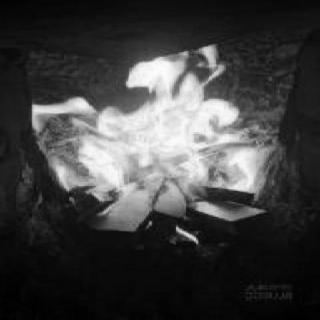Fire: (29, 43, 282, 241)
